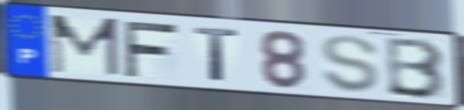8: (258, 29, 309, 90)
B: (385, 36, 449, 102)
F: (120, 19, 181, 79)
M: (47, 13, 124, 79)
S: (319, 33, 382, 95)
T: (192, 25, 242, 84)
